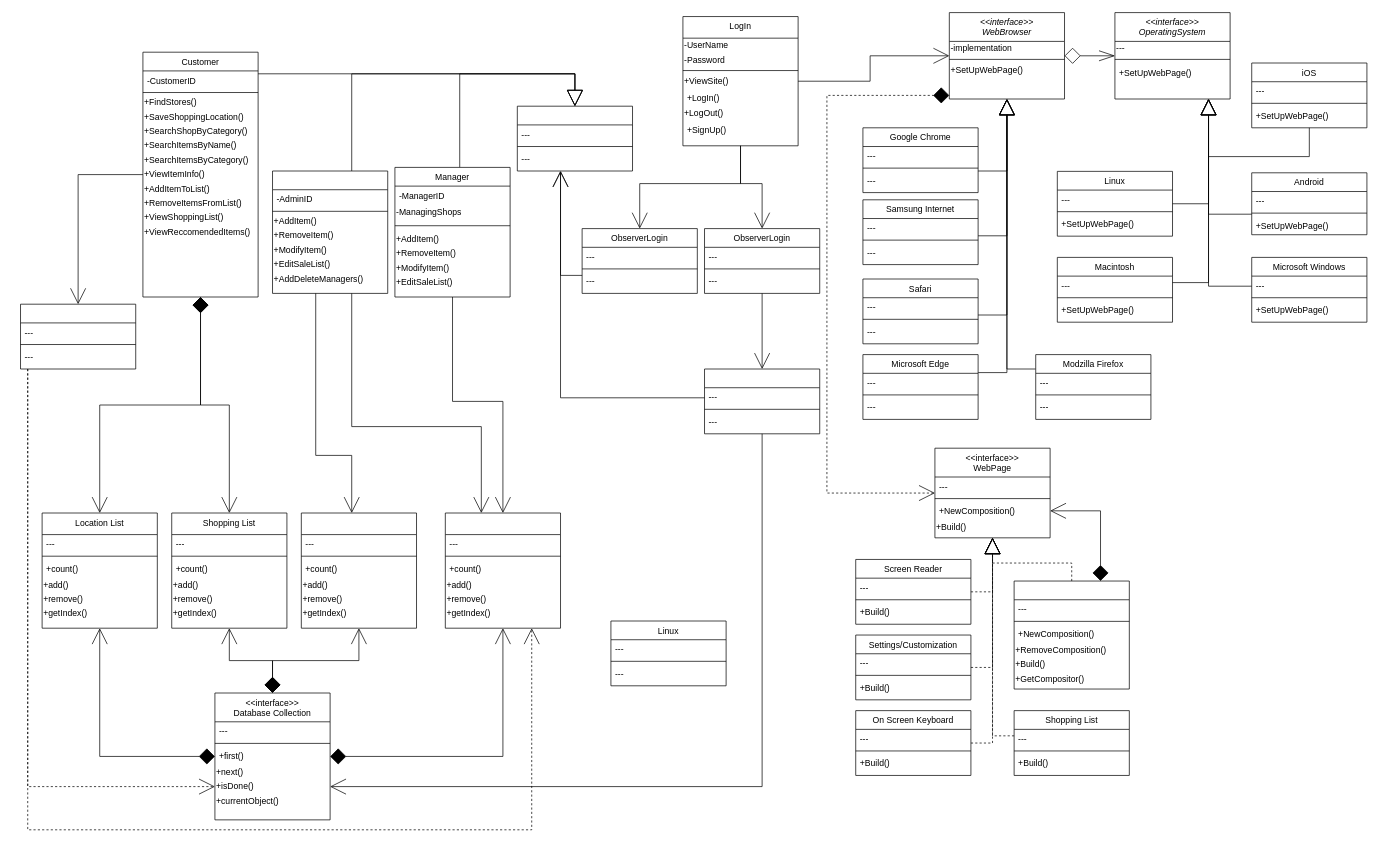
Image size: 1380x858. Some labels were removed from this diagram. Each missing label, with the box of its shape:
Administrator: (272, 170, 388, 293)
CompositePart: (1013, 580, 1129, 689)
Item Catalogue: (445, 512, 561, 628)
ItemVisitor: (20, 303, 136, 369)
Manager List: (301, 512, 417, 628)
New User Setup: (704, 368, 820, 434)
User: (517, 105, 633, 171)
